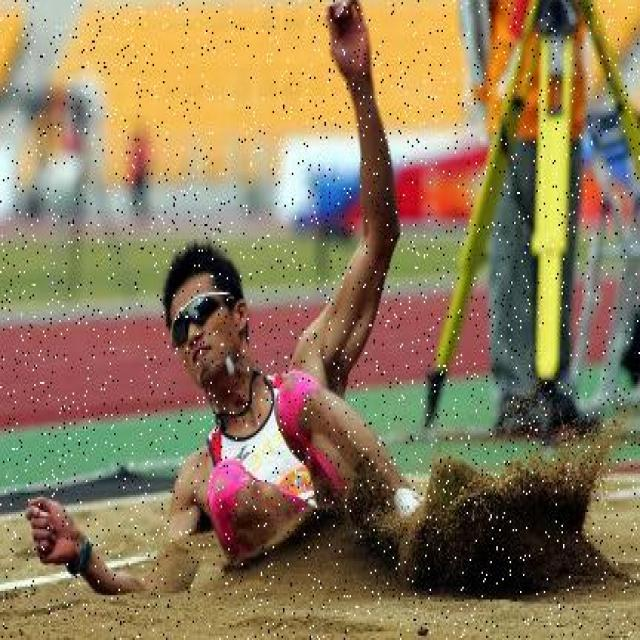fall: (150, 186, 443, 584)
